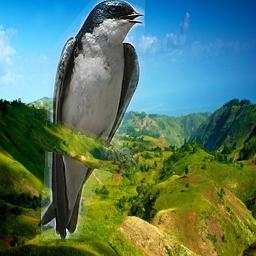Swallow: (41, 0, 145, 239)
